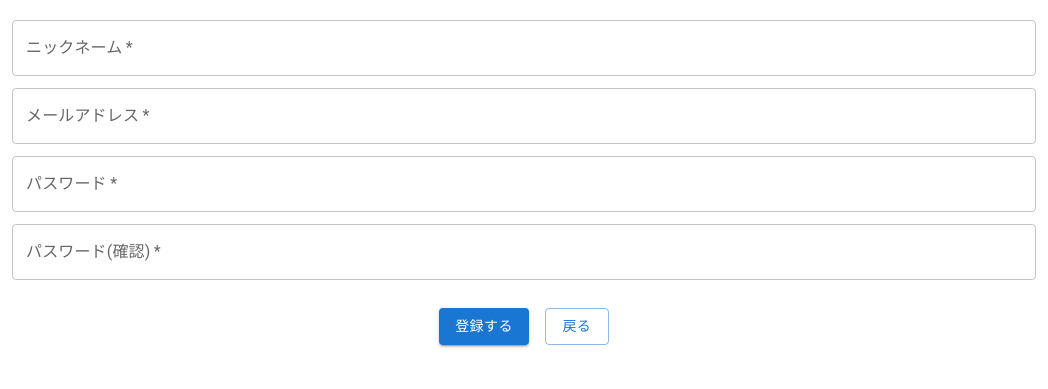
Test: SignupForm › Being able to register as a user
In the field labelled "メールアドレス": (524, 116) 12,88 -> 1036,144, type "test@gmail.com"
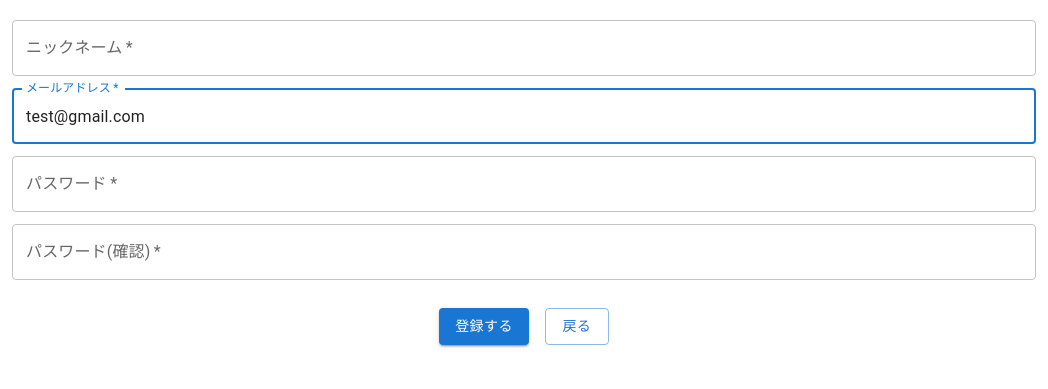
In the password field with test id "password": (524, 184) 12,156 -> 1036,212, type "password"
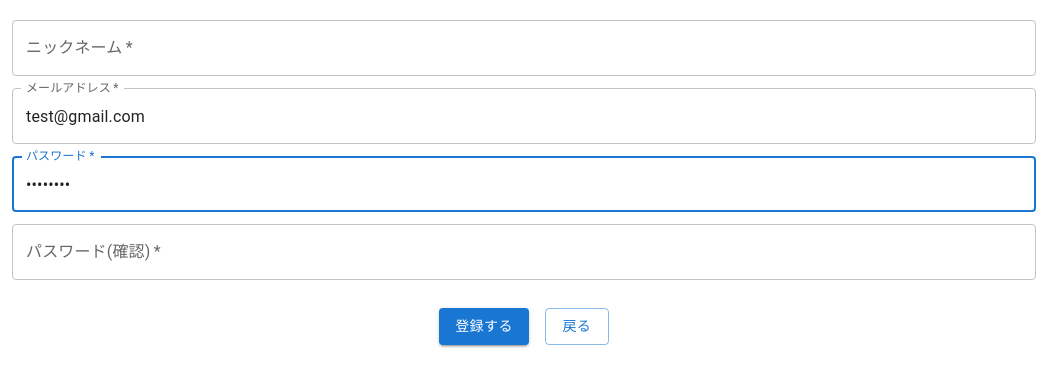
In the password field with test id "password-confirmation": (524, 252) 12,224 -> 1036,280, type "password"
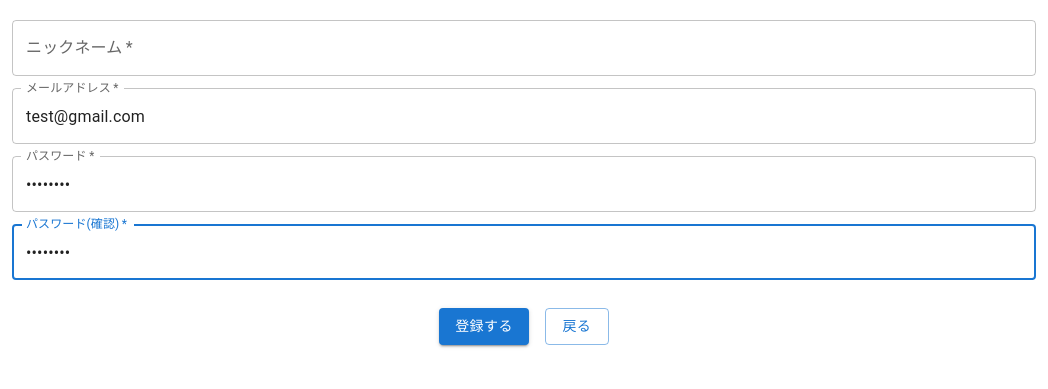
Click the button "登録する": (484, 326) 439,308 -> 529,344
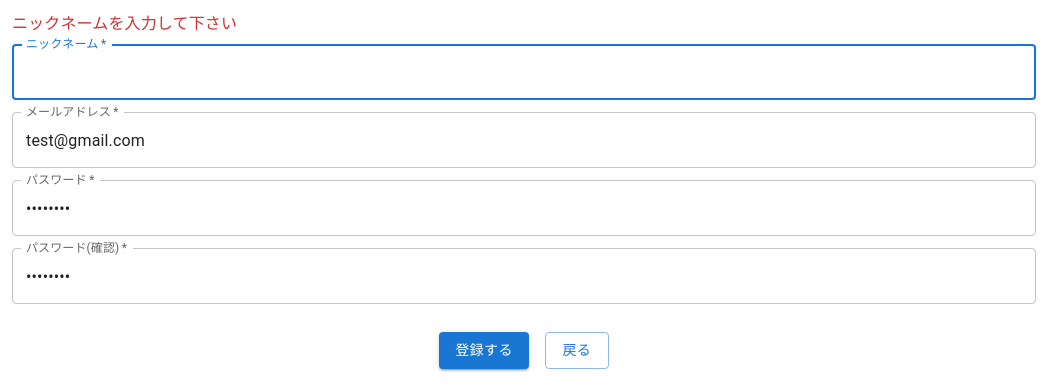
Check: the text "ニックネームを入力して下さい" is shown, box 12,14 -> 237,33
